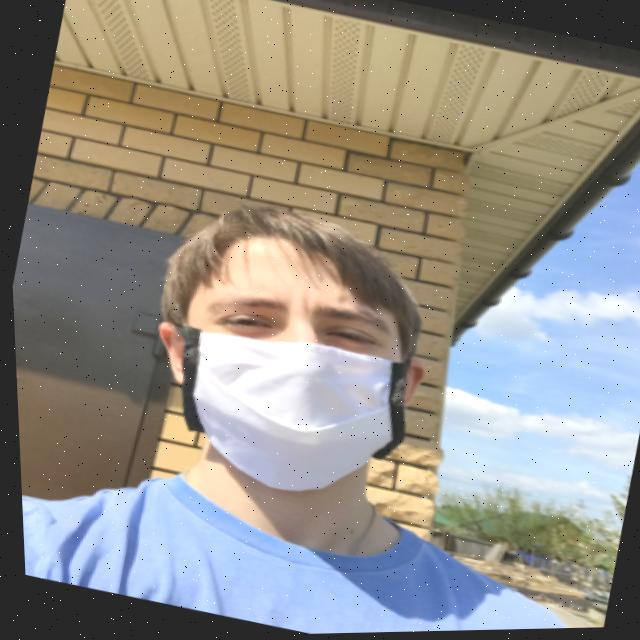Mask: (124, 272, 449, 530)
